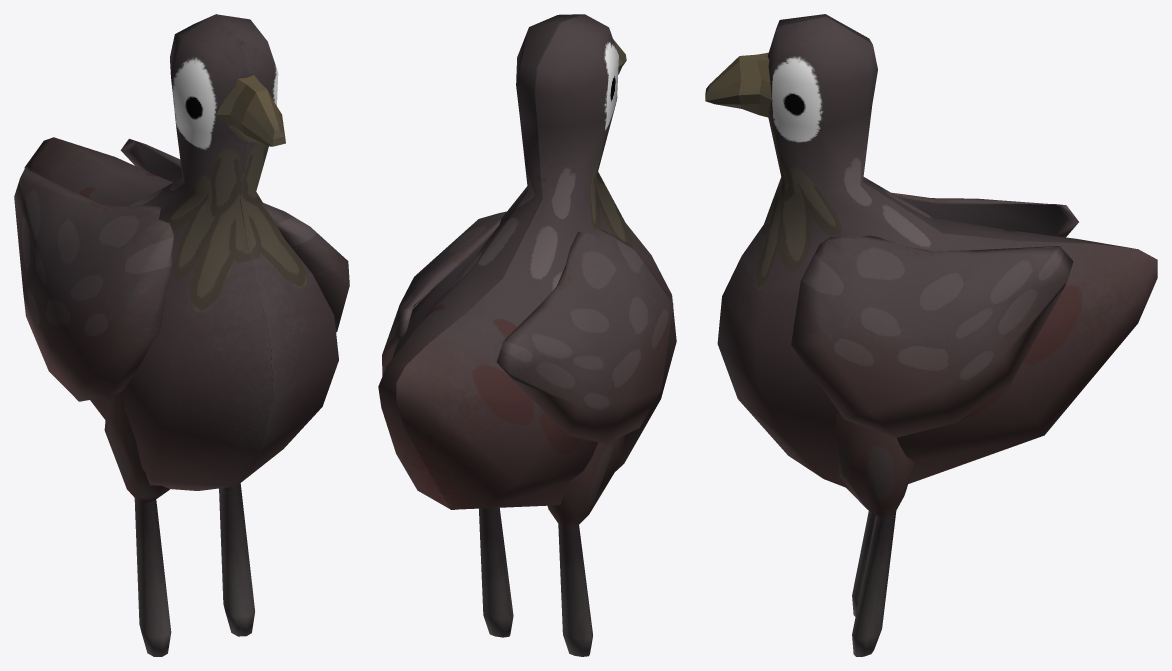
Rendered from Duif_Default_V1.fbx.
The picture shows the model from 3 angles, left to right: view 1: azimuth 30°, elevation 25°; view 2: azimuth 150°, elevation 25°; view 3: azimuth 270°, elevation 25°; orthographic projection. The views are drawn at different scales.
Parts seen in each view (by area): view 1: Cube.052; view 2: Cube.052; view 3: Cube.052.
Boxes of the visible parts, x1,y1,x2,y2 form: Cube.052: [14, 14, 349, 656]; Cube.052: [378, 14, 676, 656]; Cube.052: [705, 14, 1157, 656].
Bounding box in the file's own units: 530 × 1265 × 842.
Materials: 1 (1 with a texture image).
